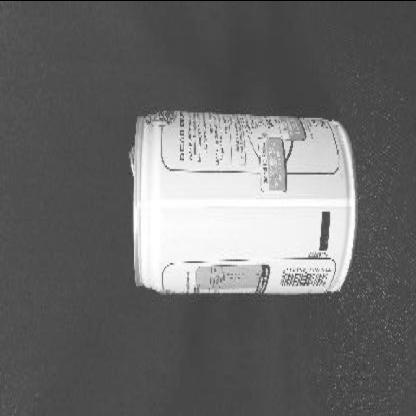alumunium_can: (130, 108, 359, 294)
